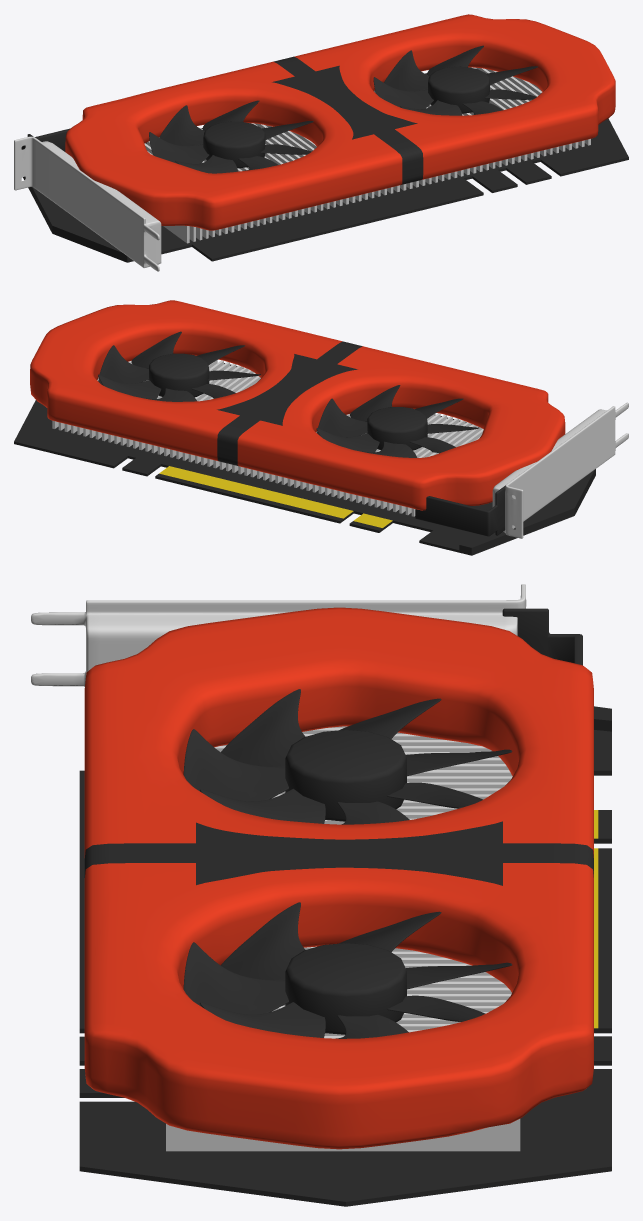
The model's file is graphic_card.fbx.
3 views of the same model, one above another, from view 1: azimuth 30°, elevation 25°; view 2: azimuth 150°, elevation 25°; view 3: azimuth 270°, elevation 25° (orthographic). The views are drawn at different scales.
Parts seen in each view (by area): view 1: red, black_bot, holder.001, gray_blocks, fan, fan.001, middle_of_fan, middle_of_fan.001, Cube; view 2: red, black_bot, holder.001, gray_blocks, fan, fan.001, Cube, middle_of_fan.001, middle_of_fan; view 3: red, black_bot, fan.001, fan, gray_blocks, holder.001, middle_of_fan.001, middle_of_fan, Cube.
Part boxes in pixels (x1=…): red: x1=65, y1=14, x2=615, y2=230; black_bot: x1=23, y1=73, x2=628, y2=262; holder.001: x1=14, y1=136, x2=161, y2=271; gray_blocks: x1=144, y1=67, x2=590, y2=243; fan: x1=149, y1=100, x2=313, y2=173; fan.001: x1=373, y1=45, x2=537, y2=115; middle_of_fan: x1=203, y1=121, x2=265, y2=168; middle_of_fan.001: x1=428, y1=66, x2=489, y2=113; Cube: x1=21, y1=128, x2=70, y2=151; red: x1=30, y1=300, x2=565, y2=510; black_bot: x1=14, y1=363, x2=595, y2=555; holder.001: x1=492, y1=402, x2=628, y2=538; gray_blocks: x1=52, y1=360, x2=483, y2=516; fan: x1=316, y1=385, x2=479, y2=457; fan.001: x1=98, y1=331, x2=260, y2=401; Cube: x1=415, y1=485, x2=505, y2=536; middle_of_fan.001: x1=149, y1=353, x2=209, y2=397; middle_of_fan: x1=367, y1=407, x2=427, y2=450; red: x1=84, y1=607, x2=593, y2=1149; black_bot: x1=79, y1=706, x2=611, y2=1206; fan.001: x1=183, y1=902, x2=512, y2=1038; fan: x1=183, y1=689, x2=512, y2=824; gray_blocks: x1=166, y1=726, x2=520, y2=1151; holder.001: x1=31, y1=584, x2=526, y2=686; middle_of_fan.001: x1=285, y1=943, x2=406, y2=1034; middle_of_fan: x1=285, y1=730, x2=406, y2=821; Cube: x1=502, y1=608, x2=582, y2=665.
Bounding box in the file's own units: 52.93 × 5.44 × 25.11.
